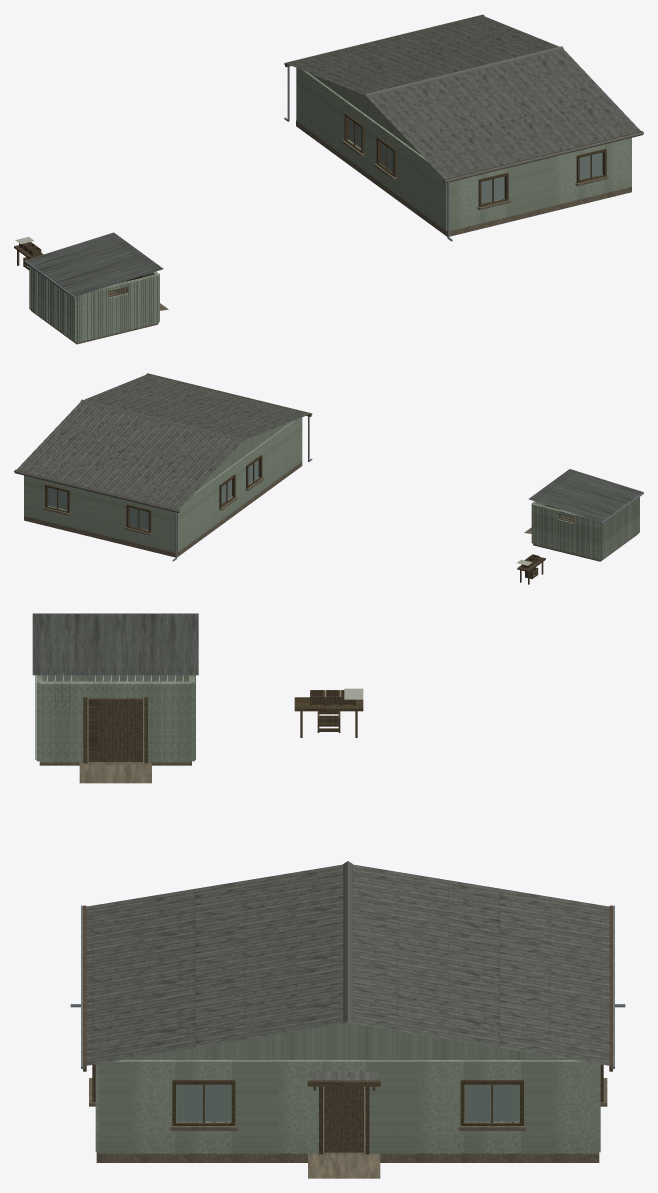
3 renders of one model, top to bottom at view 1: azimuth 30°, elevation 25°; view 2: azimuth 150°, elevation 25°; view 3: azimuth 270°, elevation 25°, orthographic. The views are drawn at different scales.
Visible parts, largest first — view 1: H27_CHAPAS_ONDULADAS, H27_FUNDOS, H27_LATERAIS, H27_ATELIER_CHAPAS_UMA_AGUA, H27_ATELIER_LATERAL, H27_ATELIER_MATA_JUNTAS, H27_FUNDACAO, H27_ATELIER_FUNDOS, H27_VIDROS_RECUADOS, H27_CAIXILHOS, H27_OITOES, H27_BEIRAIS (+2 smaller); view 2: H27_CHAPAS_ONDULADAS, H27_FUNDOS, H27_LATERAIS, H27_ATELIER_CHAPAS_UMA_AGUA, H27_ATELIER_LATERAL, H27_ATELIER_MATA_JUNTAS, H27_ATELIER_FUNDOS, H27_FUNDACAO, H27_VIDROS_RECUADOS, H27_CAIXILHOS, H27_BEIRAIS, H27_OITOES (+3 smaller); view 3: H27_CHAPAS_ONDULADAS, H27_FACHADA, H27_ATELIER_CHAPAS_UMA_AGUA, H27_OITOES, H27_ATELIER_FRENTE, H27_FUNDACAO, H27_VIDROS_RECUADOS, H27_ATELIER_PORTA_FOLHA, H27_PORTA_FOLHA, H27_ATELIER_MATA_JUNTAS, H27_CAIXILHOS, H27_RAMPA (+7 smaller).
Part boxes in pixels (x1,y1,x2,y2): H27_CHAPAS_ONDULADAS: (287,16,640,178); H27_FUNDOS: (296,68,447,230); H27_LATERAIS: (449,138,630,230); H27_ATELIER_CHAPAS_UMA_AGUA: (25,232,163,296); H27_ATELIER_LATERAL: (76,274,159,342); H27_ATELIER_MATA_JUNTAS: (29,267,157,342); H27_FUNDACAO: (296,120,631,236); H27_ATELIER_FUNDOS: (29,266,76,342); H27_VIDROS_RECUADOS: (348,119,602,203); H27_CAIXILHOS: (344,113,606,207); H27_OITOES: (309,73,421,155); H27_BEIRAIS: (285,14,643,183); H27_CHAPAS_ONDULADAS: (16,374,309,509); H27_FUNDOS: (177,417,302,552); H27_LATERAIS: (24,475,175,552); H27_ATELIER_CHAPAS_UMA_AGUA: (528,469,642,522); H27_ATELIER_LATERAL: (532,503,600,560); H27_ATELIER_MATA_JUNTAS: (532,497,639,559); H27_ATELIER_FUNDOS: (600,497,639,559); H27_FUNDACAO: (24,462,302,557); H27_VIDROS_RECUADOS: (48,460,258,530); H27_CAIXILHOS: (45,455,262,532); H27_BEIRAIS: (14,373,311,512); H27_OITOES: (198,422,290,489); H27_CHAPAS_ONDULADAS: (85,864,610,1065); H27_FACHADA: (99,1060,596,1153); H27_ATELIER_CHAPAS_UMA_AGUA: (32,614,198,675); H27_OITOES: (123,1023,572,1059); H27_ATELIER_FRENTE: (39,681,191,762); H27_FUNDACAO: (96,1084,599,1162); H27_VIDROS_RECUADOS: (176,1084,519,1121); H27_ATELIER_PORTA_FOLHA: (88,698,142,761); H27_PORTA_FOLHA: (324,1086,363,1152); H27_ATELIER_MATA_JUNTAS: (35,675,195,763); H27_CAIXILHOS: (92,1064,603,1125); H27_RAMPA: (308,1155,380,1178).
Bounding box in the file's own units: 30.05 × 4.28 × 15.56.
12 materials, 9 textured.
